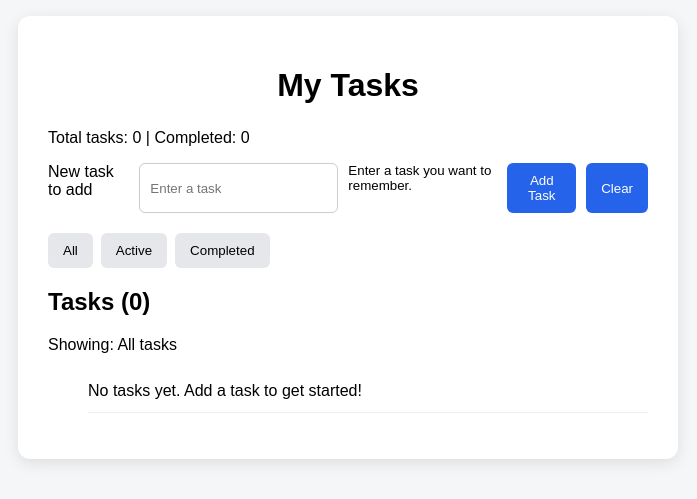
Test case: Todo app › adds a new task
Type "Study React" into the field with placeholder "Enter a task".
click(239, 188); type("Study React")  # box [139,163,338,213]
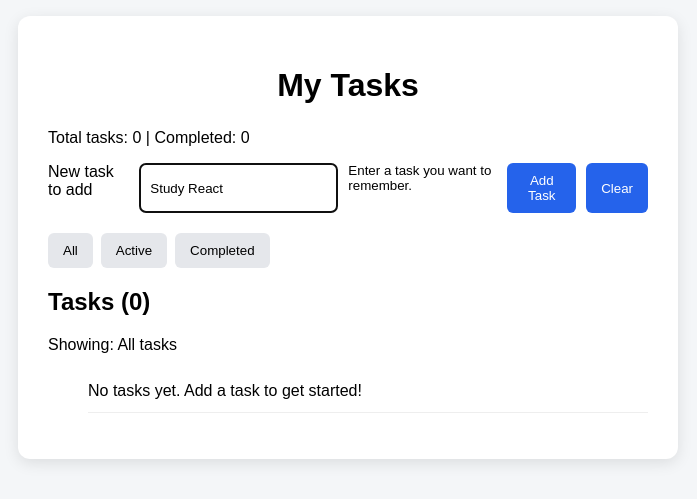
Click the button "Add Task".
click(542, 188)  # box [508,163,576,213]
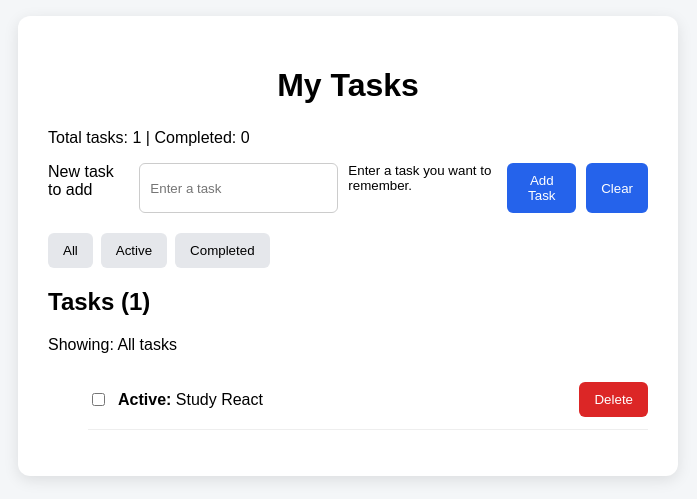
Expected: the text "Study React" is shown, [176,391,263,408]
